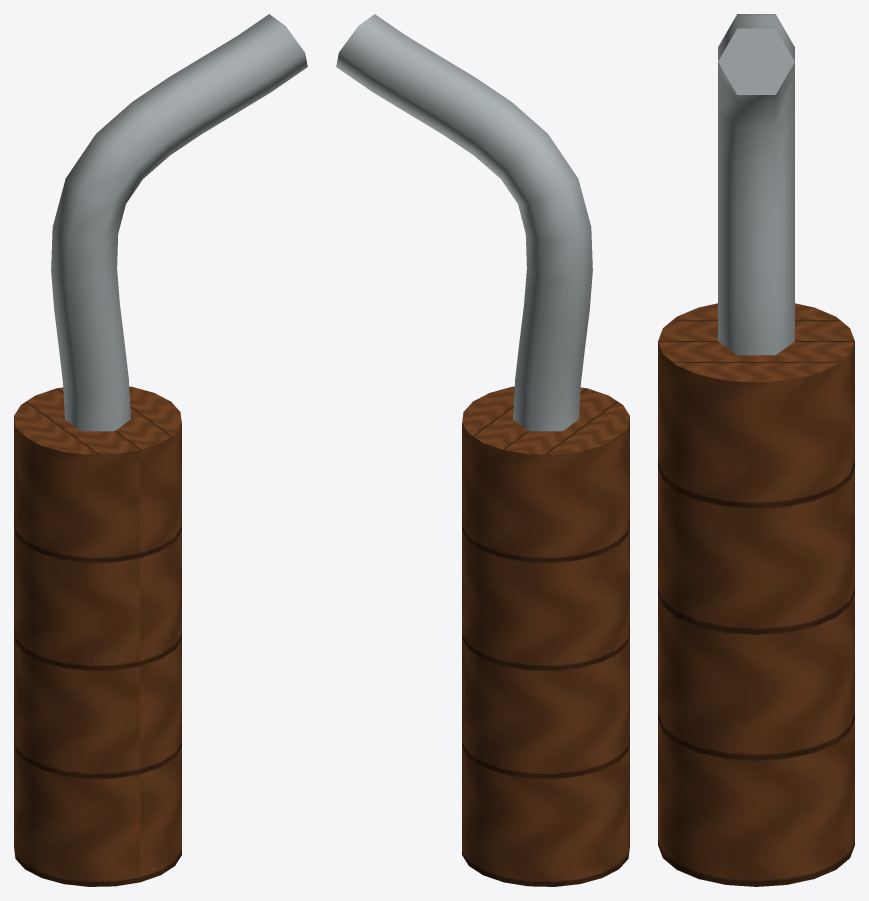
File: creature-husbandry-and-transport-hoof-cleaning-pick-860d1152__24031.glb
3 renders of one model, left to right at view 1: azimuth 30°, elevation 25°; view 2: azimuth 150°, elevation 25°; view 3: azimuth 270°, elevation 25°, orthographic. The views are drawn at different scales.
Parts seen in each view (by area): view 1: hoof-cleaning-pick; view 2: hoof-cleaning-pick; view 3: hoof-cleaning-pick.
Part boxes in pixels (left/top/right/bottom): hoof-cleaning-pick: left=14, top=14, right=307, bottom=886; hoof-cleaning-pick: left=336, top=14, right=629, bottom=886; hoof-cleaning-pick: left=658, top=14, right=854, bottom=886.
Bounding box in the file's own units: 0.0865 × 0.237 × 0.046.
2 materials, 1 textured.
